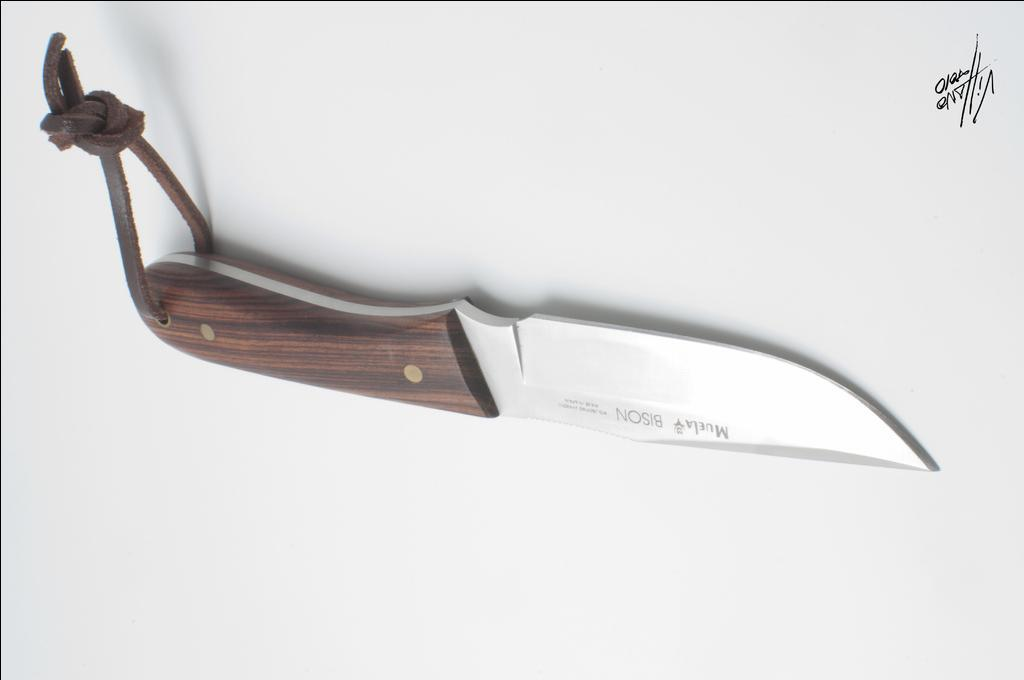melee: (136, 252, 946, 482)
